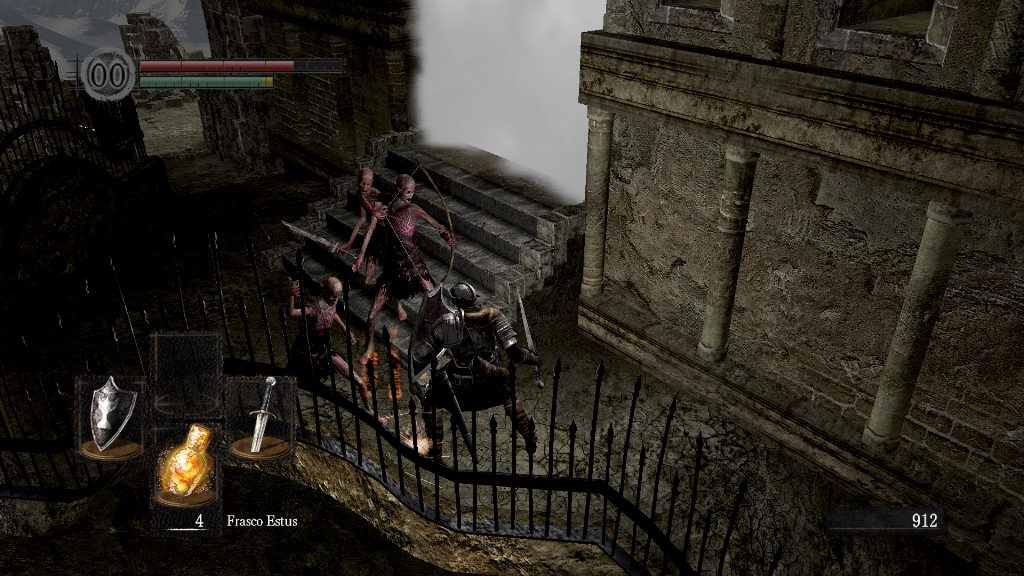health: (138, 58, 343, 71)
hollow: (358, 168, 455, 367), (275, 276, 381, 430), (342, 161, 401, 323)
humanity: (80, 45, 136, 102)
player: (409, 281, 548, 459)
souls: (825, 506, 945, 536)
stamina: (138, 74, 274, 88)
